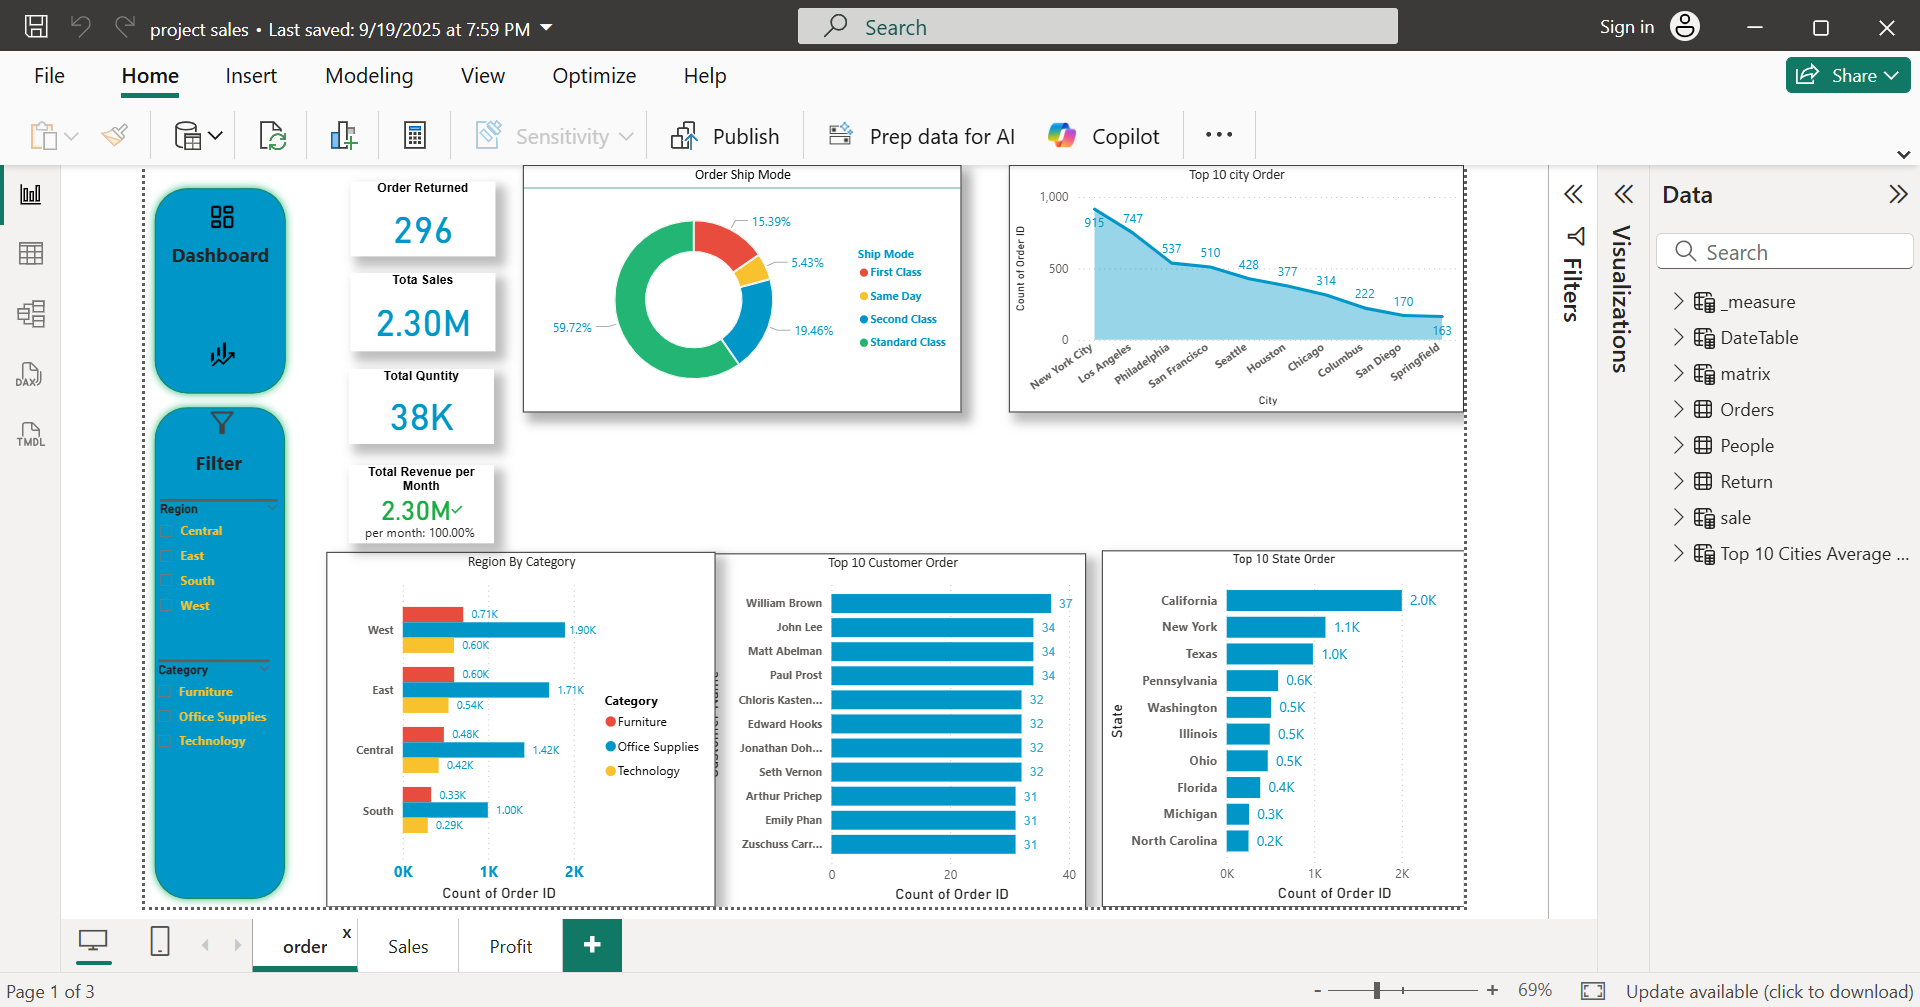

This screenshot's page, from the dashboard's own definition file:
{"tool":"powerbi","page":{"name":"order","canvas":[1280,720],"ordinal":0},"visuals":[{"type":"card","title":"Order Returned","fields":{"Values":["_measure.count of Returned"]},"box":[199,16.7,140.6,72.9],"z":0},{"type":"card","title":"Tota Sales ","fields":{"Values":["Orders.Sales"]},"box":[199,105.2,140.6,76],"z":1000},{"type":"shape","box":[1.4,13.9,143.1,215.3],"z":2000},{"type":"donutChart","title":"Order Ship Mode","fields":{"Y":["Orders.Order ID"],"Series":["Orders.Ship Mode"]},"box":[366.7,0,425.4,239.7],"z":3000},{"type":"clusteredBarChart","title":"Top 10 Customer Order","fields":{"Category":["Orders.Customer Name"],"Y":["Orders.Order ID"]},"box":[537.3,376.3,376.3,344.1],"z":4000},{"type":"clusteredBarChart","title":"Region By Category","fields":{"Category":["Orders.Region"],"Series":["Orders.Category"],"Y":["Orders.Order ID"]},"box":[176.5,375.7,377.3,344.9],"z":5000},{"type":"areaChart","title":"Top 10 city Order","fields":{"Y":["Orders.Order ID"],"Category":["Orders.City"]},"box":[838.1,0,441.3,239.7],"z":6000},{"type":"kpi","title":"Total Revenue per Month","fields":{"Indicator":["_measure.Target Revenue"],"Goal":["_measure.Toral Revenue"],"TrendLine":["DateTable.Month Number"]},"box":[198.3,291.5,140.7,76.3],"z":7000},{"type":"clusteredBarChart","title":"Top 10 State Order","fields":{"Y":["Orders.Order ID"],"Category":["Orders.State"]},"box":[928.8,374.6,352,345.8],"z":8000},{"type":"image","box":[6.9,31.9,134.7,36.1],"z":9000},{"type":"image","box":[6.9,163.9,134.7,38.9],"z":10000},{"type":"shape","box":[1.7,227.1,142.4,493.2],"z":11000},{"type":"textbox","box":[4.2,68.1,137.5,37.5],"z":12000},{"type":"slicer","fields":{"Values":["Orders.Region"]},"box":[1.4,319.4,140.3,126.4],"z":13000},{"type":"textbox","box":[0,270.8,143.1,41.7],"z":14000},{"type":"image","box":[5.6,229.2,137.5,43.1],"z":15000},{"type":"slicer","fields":{"Values":["Orders.Category"]},"box":[0,474.6,133.9,103.4],"z":16000},{"type":"card","title":"Total Quntity","fields":{"Values":["Orders.Quantity"]},"box":[198.3,198.3,140.7,72.9],"z":17000}]}

Visuals, with their boxes on the page's 1280x720 design canvas (x1, y1, x2, y2). These are canvas units, not pixel positions in the 1920x1007 screenshot, which may show the page scaled, cropped or inside an application window:
"Order Returned" card: [199, 17, 340, 90]
"Tota Sales " card: [199, 105, 340, 181]
shape: [1, 14, 144, 229]
"Order Ship Mode" donutChart: [367, 0, 792, 240]
"Top 10 Customer Order" clusteredBarChart: [537, 376, 914, 720]
"Region By Category" clusteredBarChart: [176, 376, 554, 721]
"Top 10 city Order" areaChart: [838, 0, 1279, 240]
"Total Revenue per Month" kpi: [198, 292, 339, 368]
"Top 10 State Order" clusteredBarChart: [929, 375, 1281, 720]
image: [7, 32, 142, 68]
image: [7, 164, 142, 203]
shape: [2, 227, 144, 720]
textbox: [4, 68, 142, 106]
slicer - Orders.Region: [1, 319, 142, 446]
textbox: [0, 271, 143, 312]
image: [6, 229, 143, 272]
slicer - Orders.Category: [0, 475, 134, 578]
"Total Quntity" card: [198, 198, 339, 271]
